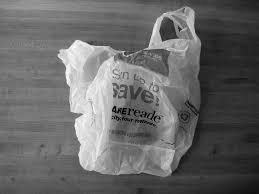Plastic: (57, 5, 205, 177)
